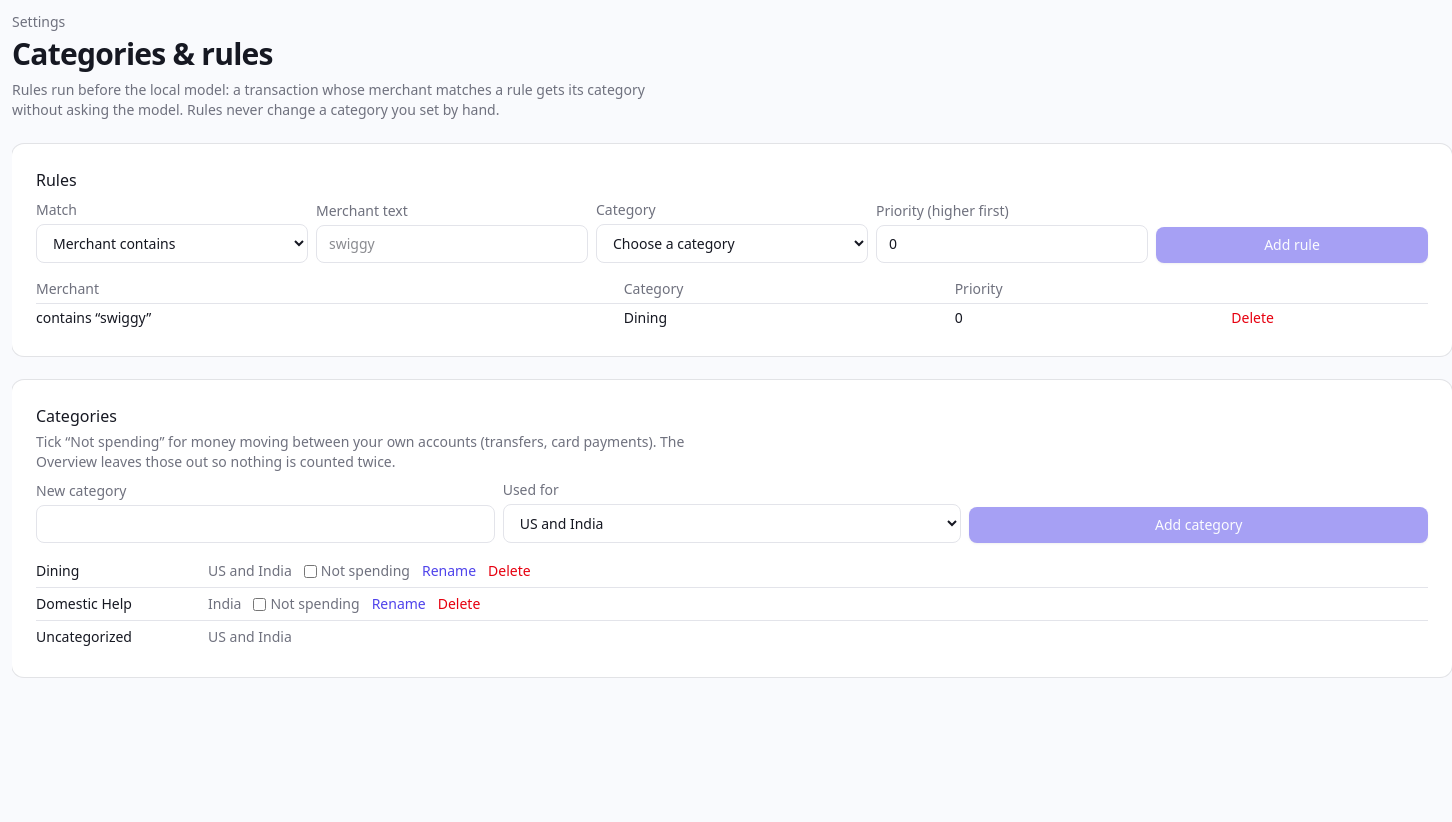
Scenario: a rule is deleted
The width and height of the screenshot is (1452, 822).
Click the button with aria-label "Delete the rule for swiggy": (1253, 318) x1=1231 y1=308 x2=1274 y2=328
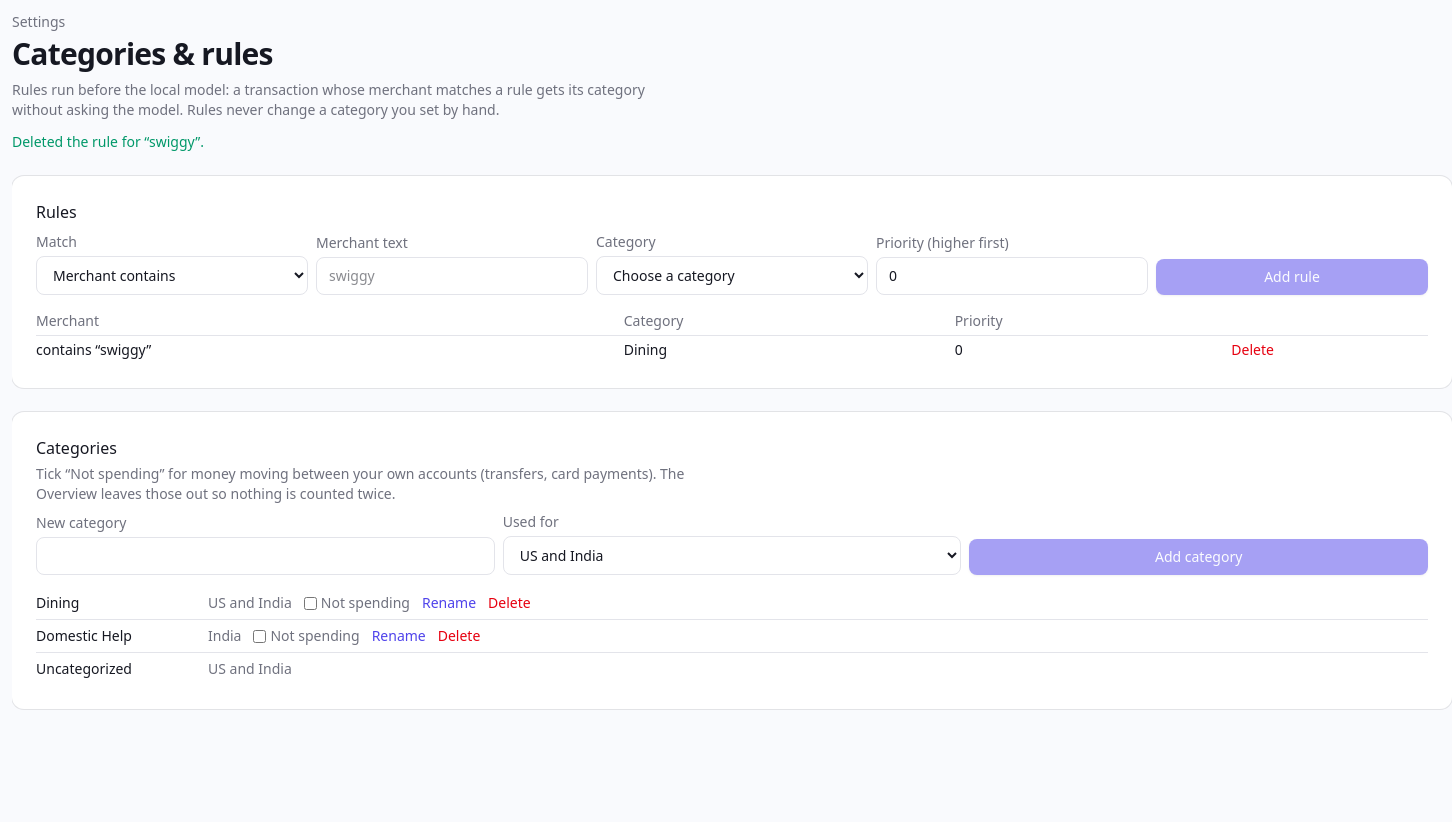
Now the text "Deleted the rule for “swiggy”." is shown, box x1=12 y1=132 x2=204 y2=151
